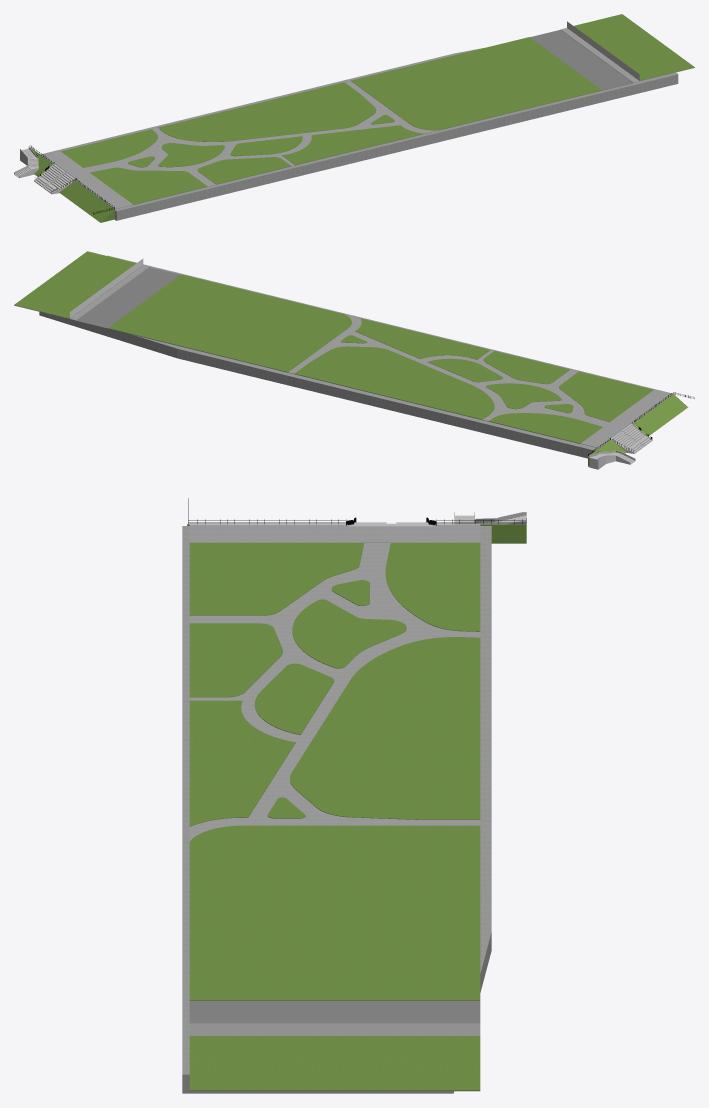
The model's file is 06_GreenArea.fbx.
The picture shows the model from 3 angles, top to bottom: view 1: azimuth 30°, elevation 25°; view 2: azimuth 150°, elevation 25°; view 3: azimuth 270°, elevation 25°; orthographic projection. The views are drawn at different scales.
Parts seen in each view (by area): view 1: 06 지상녹지공간, 06 지상녹지공간.005, 06 지상녹지공간.004, 06 지상녹지공간.006, 06 지상녹지공간.003, 06 지상녹지공간.001; view 2: 06 지상녹지공간, 06 지상녹지공간.005, 06 지상녹지공간.004, 06 지상녹지공간.006, 06 지상녹지공간.003, 06 지상녹지공간.001; view 3: 06 지상녹지공간, 06 지상녹지공간.004, 06 지상녹지공간.005, 06 지상녹지공간.006, 06 지상녹지공간.001, 06 지상녹지공간.003, 06 지상녹지공간.002.
Boxes of the visible parts, box(x1,y1,x2,y2) form: 06 지상녹지공간: box(30, 14, 694, 222); 06 지상녹지공간.005: box(40, 48, 678, 220); 06 지상녹지공간.004: box(42, 28, 694, 209); 06 지상녹지공간.006: box(530, 30, 632, 90); 06 지상녹지공간.003: box(14, 147, 75, 194); 06 지상녹지공간.001: box(567, 21, 639, 80); 06 지상녹지공간: box(14, 251, 688, 466); 06 지상녹지공간.005: box(39, 255, 674, 458); 06 지상녹지공간.004: box(14, 265, 672, 447); 06 지상녹지공간.006: box(76, 267, 180, 328); 06 지상녹지공간.003: box(589, 423, 652, 469); 06 지상녹지공간.001: box(70, 258, 143, 317); 06 지상녹지공간: box(187, 524, 526, 1090); 06 지상녹지공간.004: box(189, 524, 480, 1091); 06 지상녹지공간.005: box(182, 526, 491, 1093); 06 지상녹지공간.006: box(189, 1000, 480, 1023); 06 지상녹지공간.001: box(189, 1023, 480, 1035); 06 지상녹지공간.003: box(347, 512, 526, 526); 06 지상녹지공간.002: box(188, 498, 526, 525).
Size of the model in its own units: 29111 by 780 by 7124.
